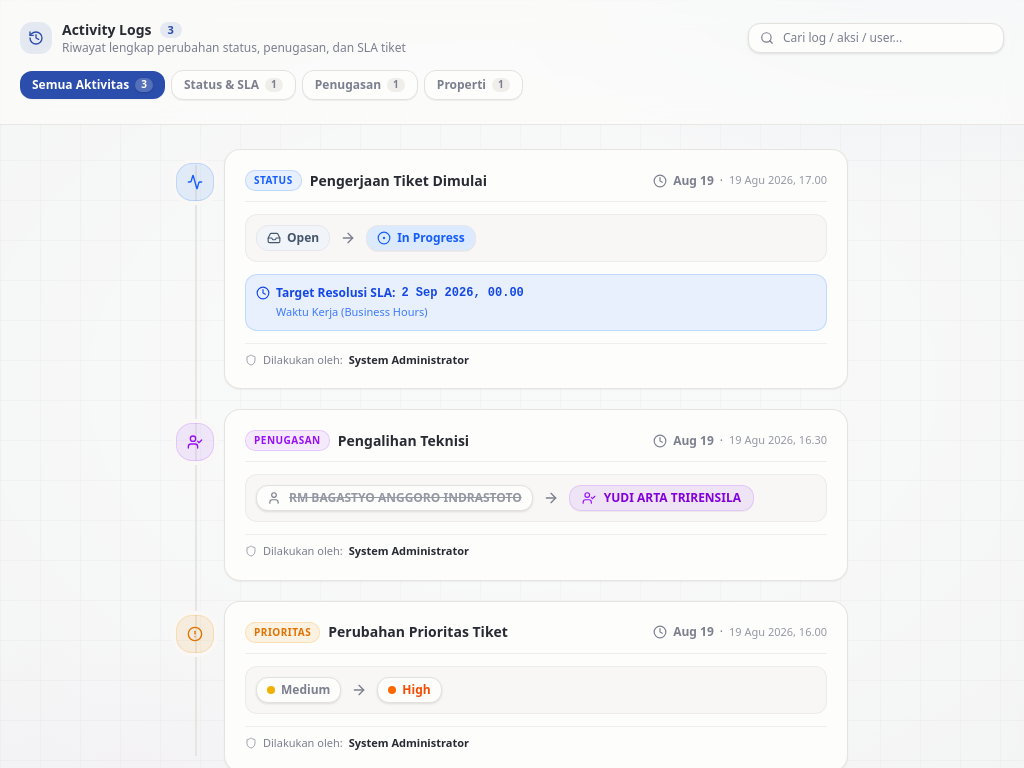
Test: TicketHistory › filters activities by search query
Type "YUDI ARTA" into the field with placeholder "Cari log / aksi / user...".
click(876, 38); type("YUDI ARTA")  # box 748,23 -> 1004,53
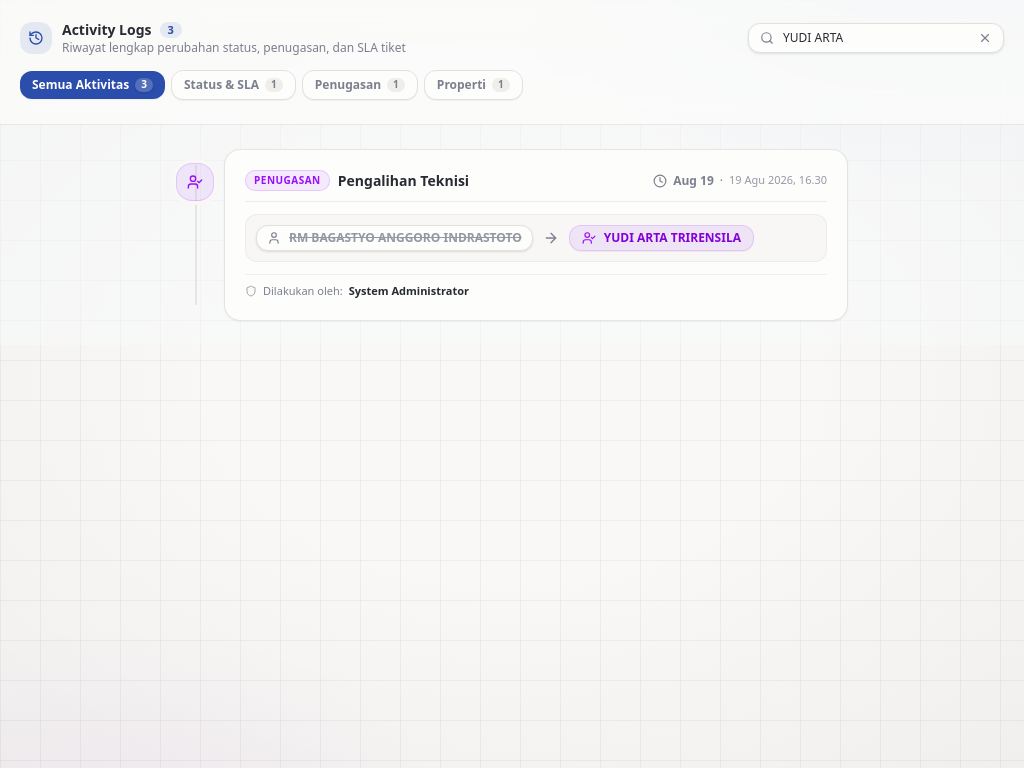
Expected: the heading "Pengalihan Teknisi" is shown, 338,170 -> 469,190
Expected: the heading "Perubahan Prioritas Tiket" is gone
